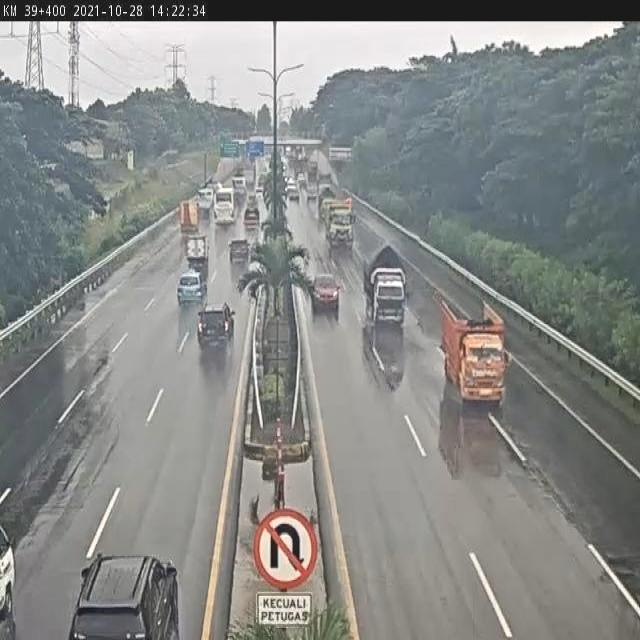Bus: (212, 186, 235, 226)
Car: (196, 302, 236, 352), (310, 272, 341, 319), (177, 270, 206, 305), (228, 238, 250, 270), (245, 191, 258, 210), (297, 172, 305, 185)
Truck: (66, 552, 180, 638), (436, 292, 509, 408), (364, 246, 407, 327), (323, 194, 355, 253), (183, 234, 210, 280), (178, 200, 200, 238), (243, 204, 260, 233), (231, 176, 247, 200)
